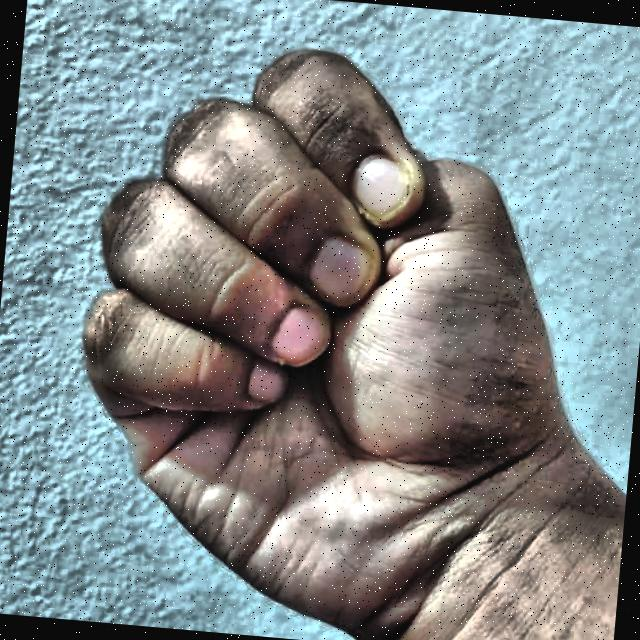To: (33, 8, 613, 640)
